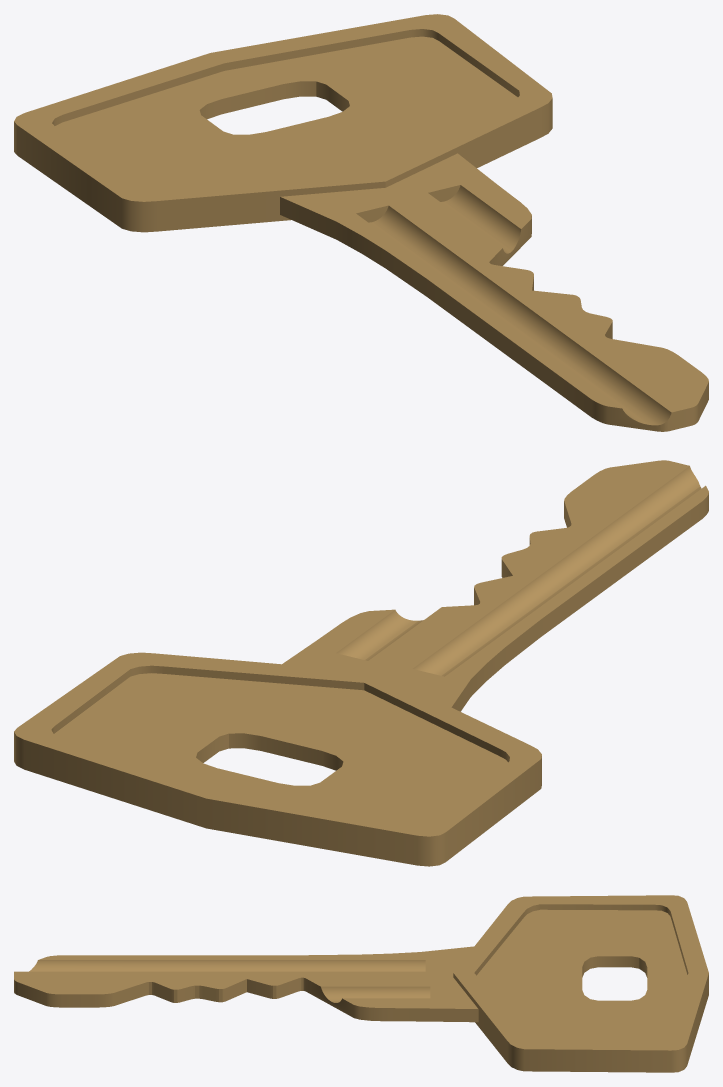
File: key3.fbx
The picture shows the model from 3 angles, top to bottom: view 1: azimuth 30°, elevation 25°; view 2: azimuth 150°, elevation 25°; view 3: azimuth 270°, elevation 25°; orthographic projection. The views are drawn at different scales.
Visible parts, largest first — view 1: key3; view 2: key3; view 3: key3.
Part boxes in pixels (left/top/right/bottom): key3: left=14, top=14, right=708, bottom=431; key3: left=14, top=460, right=708, bottom=866; key3: left=14, top=895, right=708, bottom=1072.
Size of the model in its own units: 11.94 by 0.796 by 22.59.
